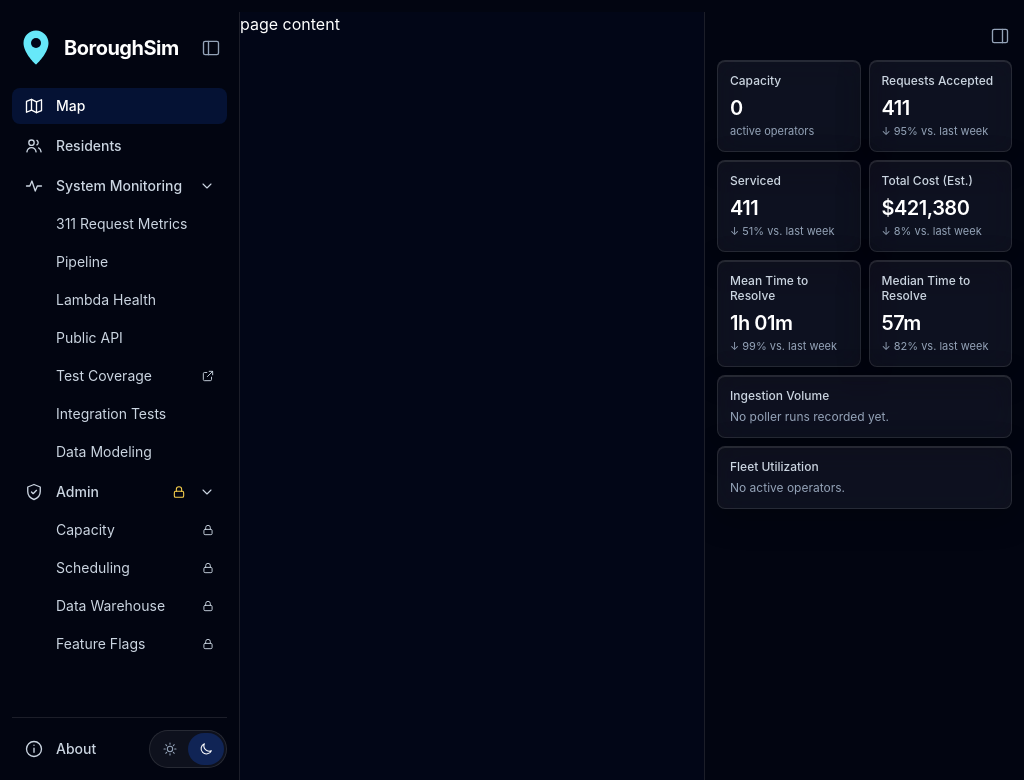
Scenario: WorkspaceShell — wide › collapses the menu to a rail and expands it again
The image size is (1024, 780).
Click the button named "Collapse menu" at [211, 48], box left=195, top=32, right=227, bottom=64
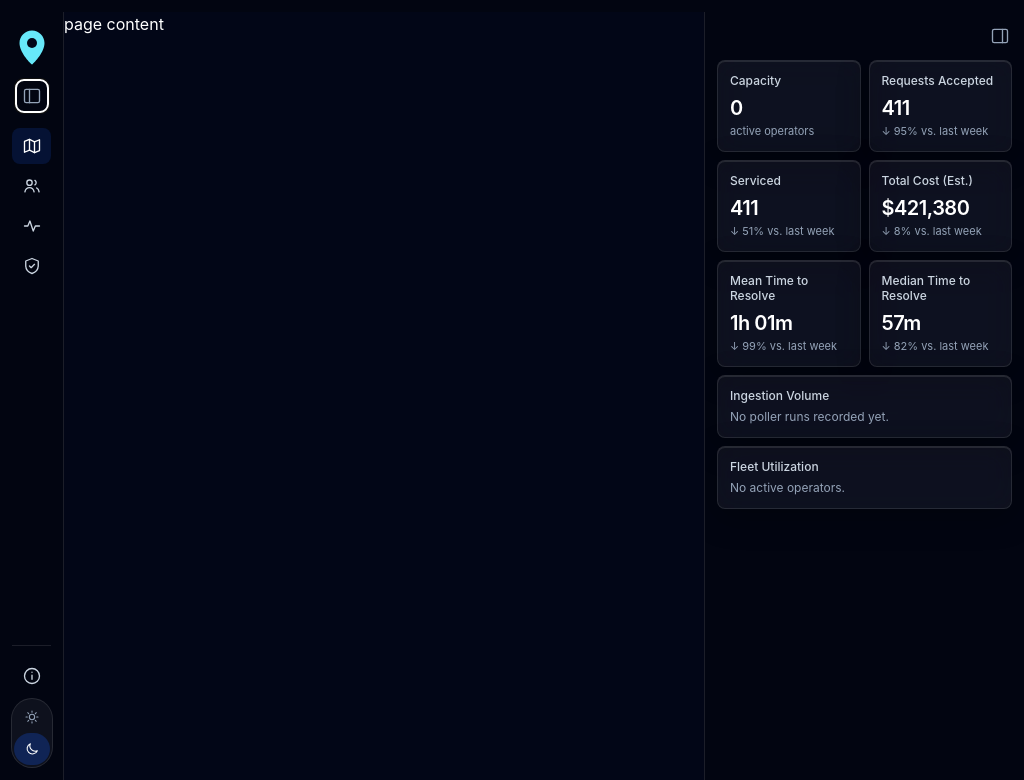
Now the button named "Expand menu" is shown
Now the text "BoroughSim" is gone
Click the button named "Expand menu" at [32, 96], box left=16, top=80, right=48, bottom=112
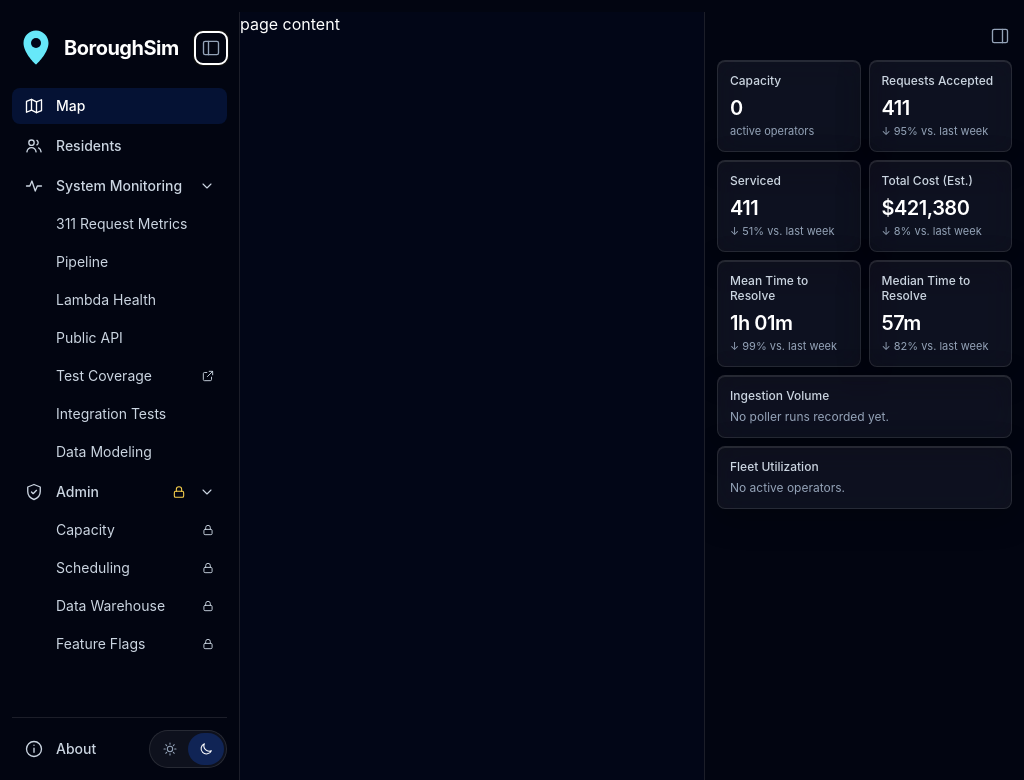
Now the text "BoroughSim" is shown, box left=64, top=34, right=179, bottom=62
